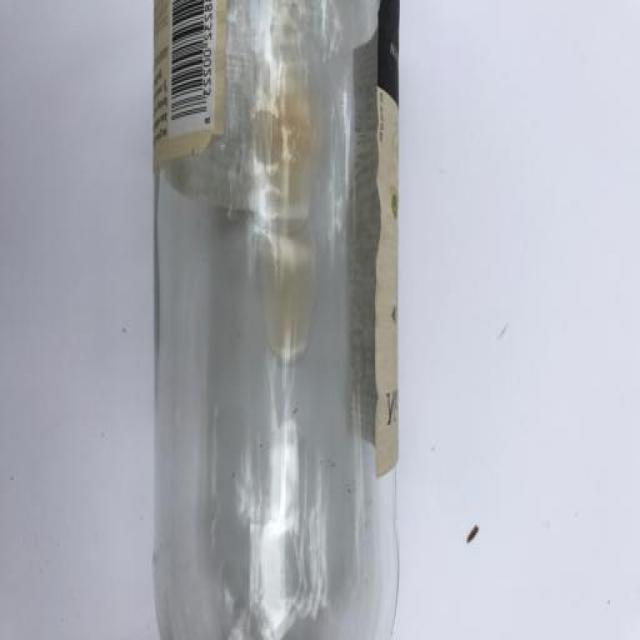glass: (148, 0, 403, 640)
